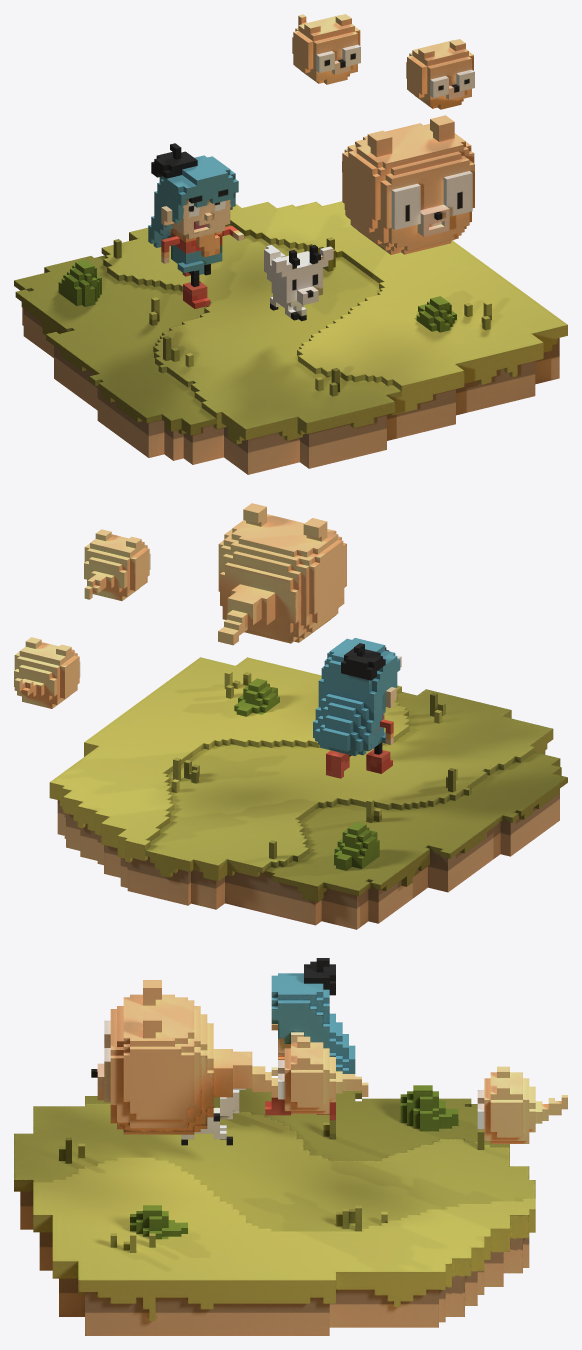
Rendered from hilda2.glb.
The picture shows the model from 3 angles, top to bottom: view 1: azimuth 30°, elevation 25°; view 2: azimuth 150°, elevation 25°; view 3: azimuth 270°, elevation 25°; orthographic projection. The views are drawn at different scales.
Visible parts, largest first — view 1: Hilda; view 2: Hilda; view 3: Hilda.
Boxes of the visible parts, x1,y1,x2,y2 form: Hilda: [14, 14, 567, 474]; Hilda: [14, 503, 567, 929]; Hilda: [14, 958, 567, 1335].
Bounding box in the file's own units: 7.8 × 4.8 × 8.6.
1 material, 1 textured.
